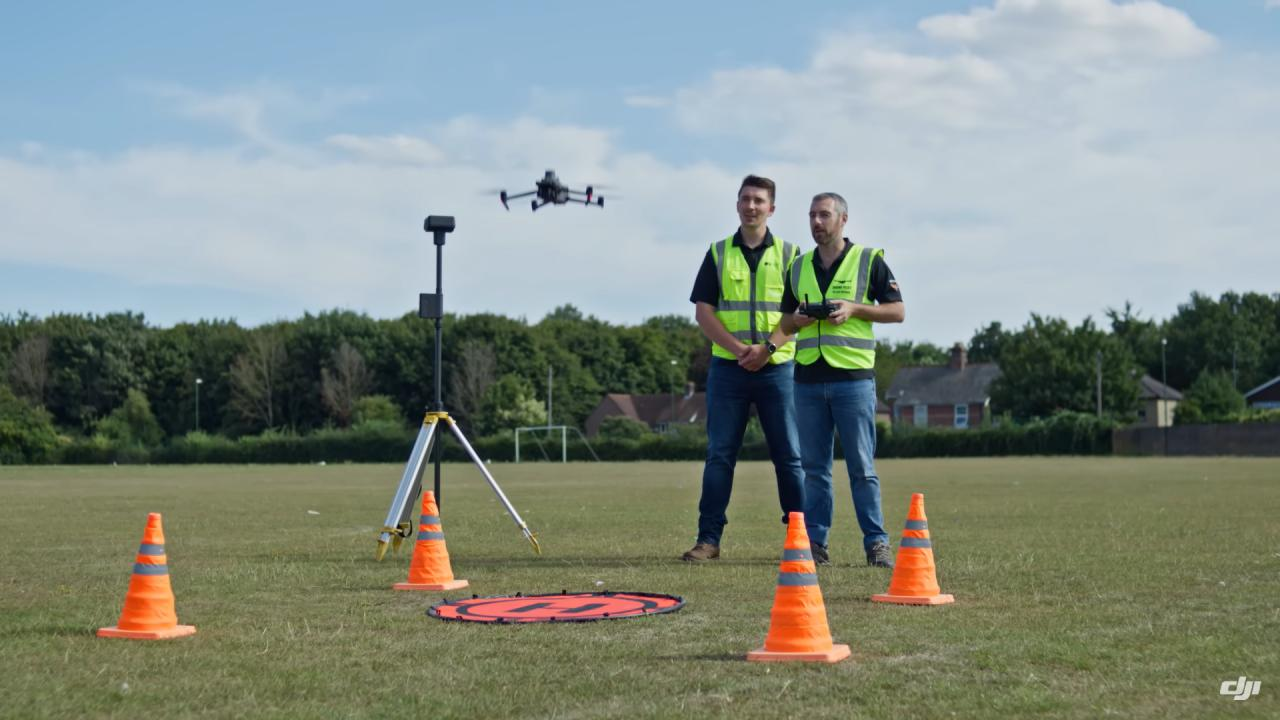Drone: (475, 157, 635, 228)
